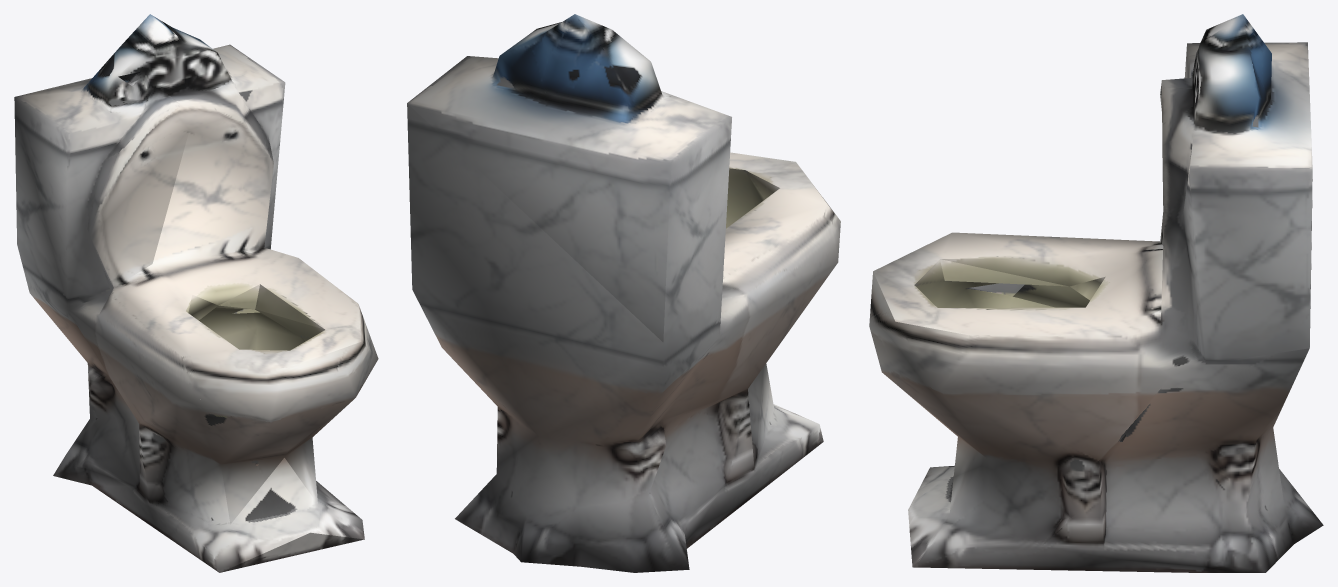
The model's file is marble-imperial-toilet.glb.
The picture shows the model from 3 angles, left to right: view 1: azimuth 30°, elevation 25°; view 2: azimuth 150°, elevation 25°; view 3: azimuth 270°, elevation 25°; orthographic projection. The views are drawn at different scales.
Visible parts, largest first — view 1: geometry_0.001; view 2: geometry_0.001; view 3: geometry_0.001.
Boxes of the visible parts, box(x1,y1,x2,y2) form: geometry_0.001: box(14, 14, 378, 572); geometry_0.001: box(407, 14, 840, 572); geometry_0.001: box(869, 14, 1323, 572).
Size of the model in its own units: 0.5208 by 0.9978 by 0.7984.
1 material, 1 textured.
